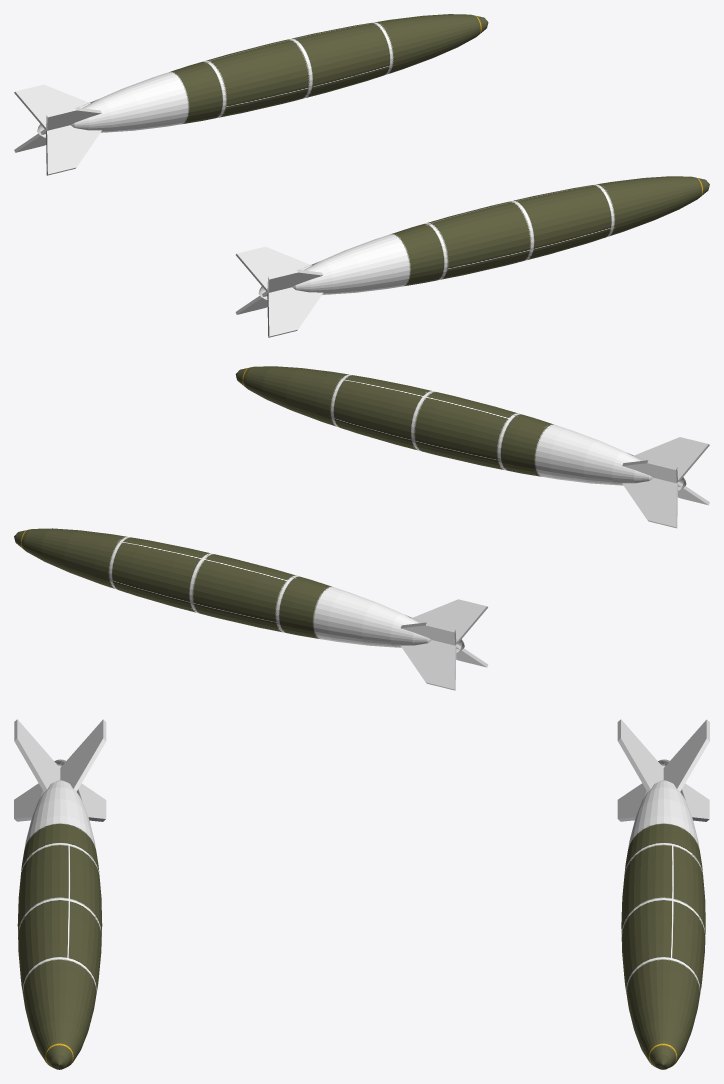
File: a10cgbu3148.glb
3 renders of one model, top to bottom at view 1: azimuth 30°, elevation 25°; view 2: azimuth 150°, elevation 25°; view 3: azimuth 270°, elevation 25°, orthographic. The views are drawn at different scales.
Visible parts, largest first — view 1: 立方体.003, 立方体.004; view 2: 立方体.004, 立方体.003; view 3: 立方体.003, 立方体.004.
Boxes of the visible parts, left/top/right/bottom form: 立方体.003: left=14, top=14, right=488, bottom=175; 立方体.004: left=235, top=176, right=709, bottom=337; 立方体.004: left=235, top=366, right=709, bottom=528; 立方体.003: left=14, top=528, right=488, bottom=690; 立方体.003: left=617, top=719, right=709, bottom=1069; 立方体.004: left=14, top=719, right=106, bottom=1069.
Bounding box in the file's own units: 3.8 × 0.4884 × 3.68.
Materials: 1 (1 with a texture image).
